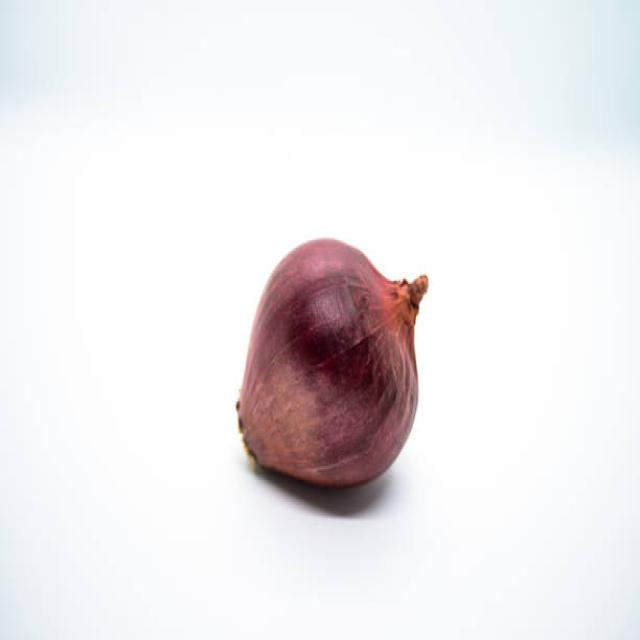onion: (232, 226, 426, 514)
